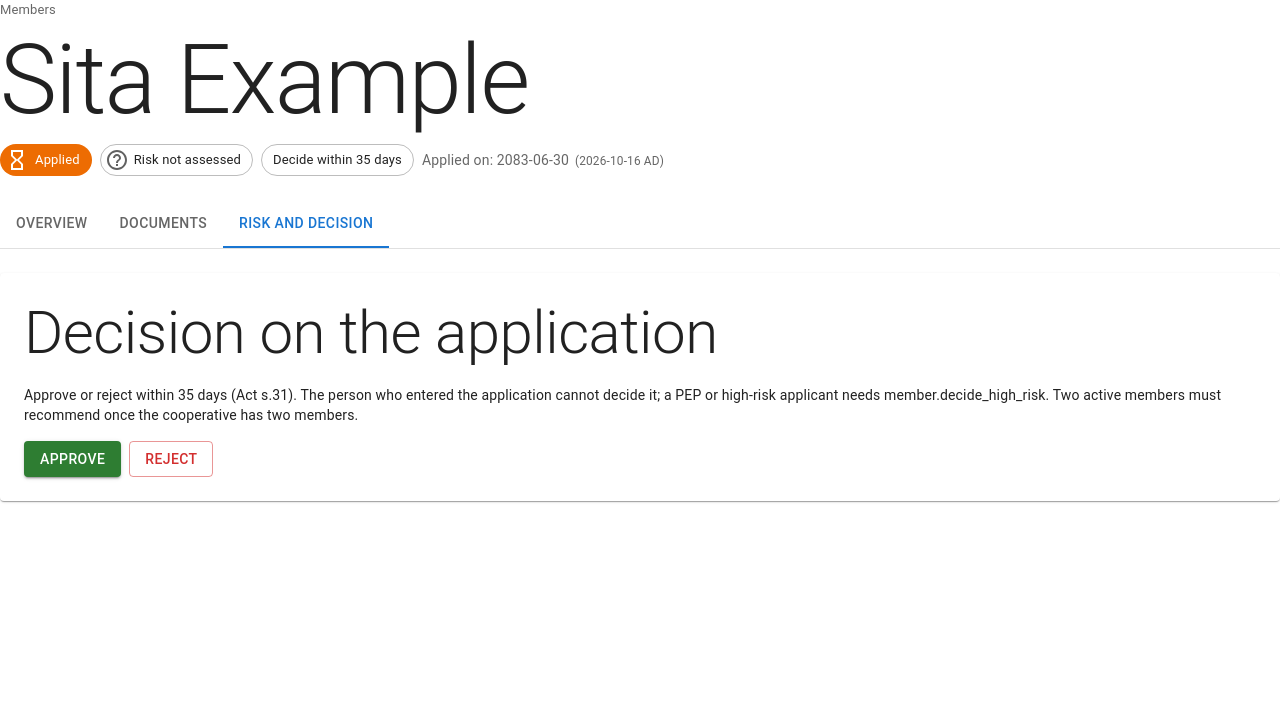
Test: MemberDetail › approves after confirmation when permitted
Click the button "Approve" at [73, 459], box [24, 441, 121, 477]
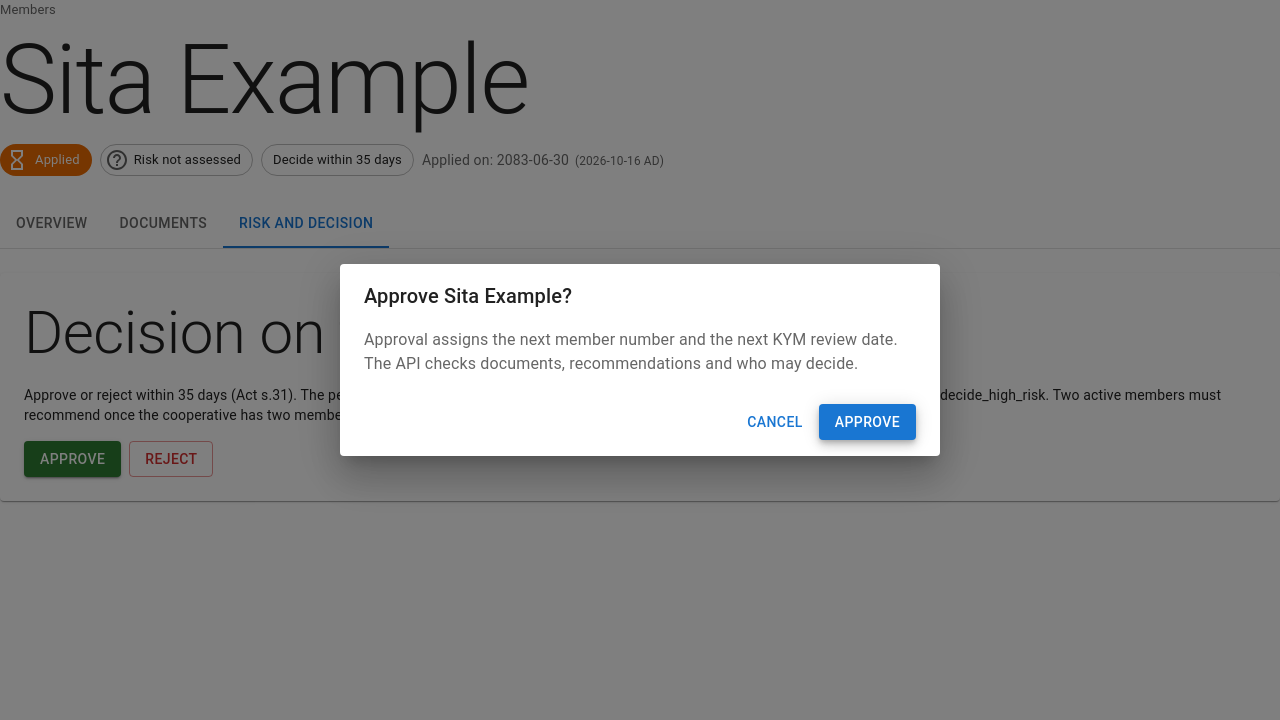
Click the button "Approve" at [867, 422], box [819, 404, 916, 440]
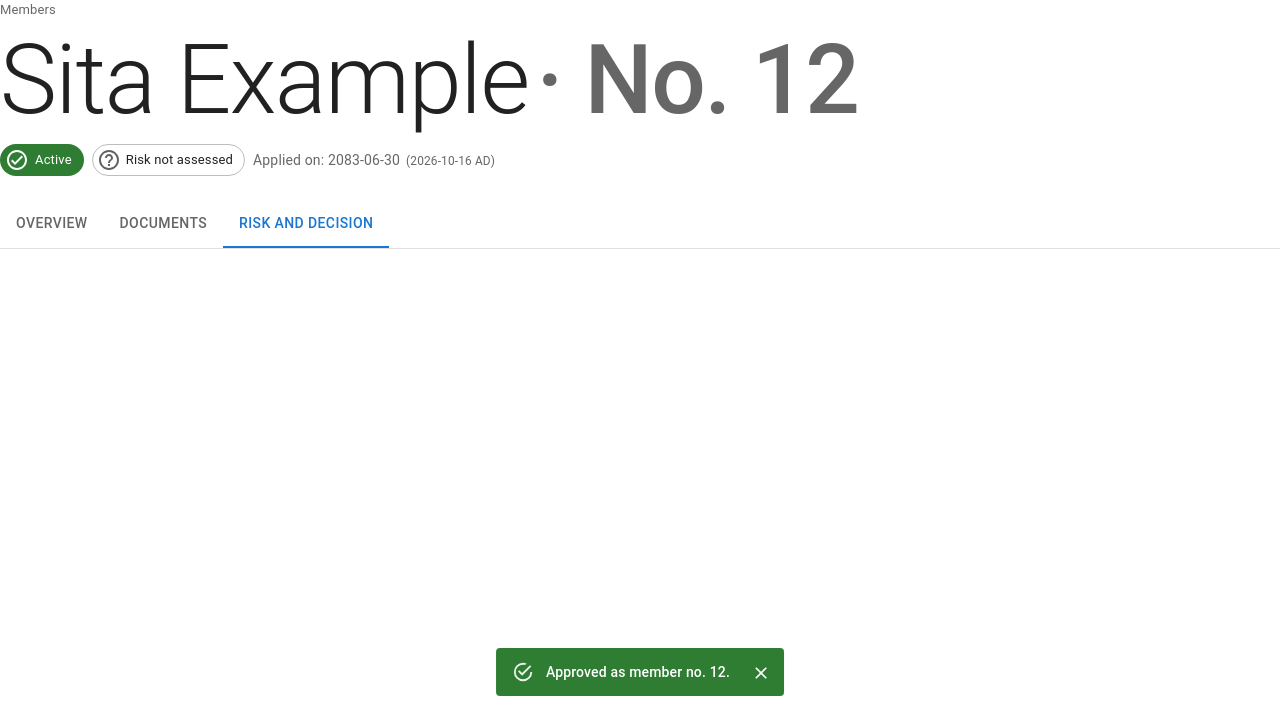
Result: the text "Approved as member no. 12." is shown at [546, 664, 730, 680]
